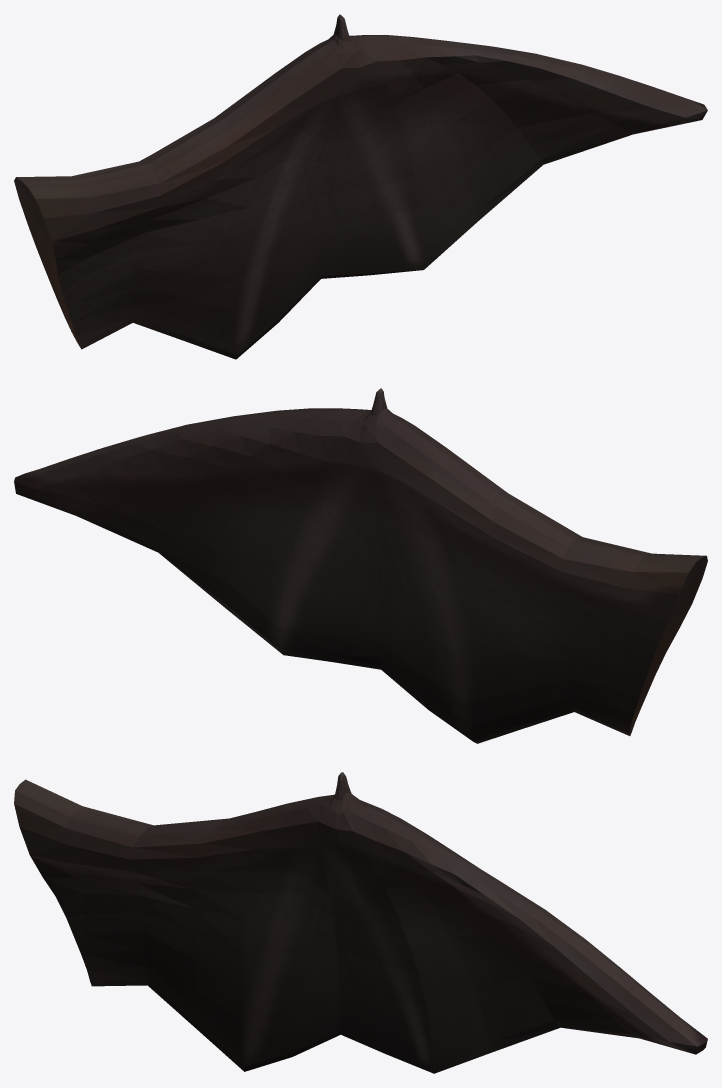
The model's file is SM_FP_Bat_Wing.fbx.
3 renders of one model, top to bottom at view 1: azimuth 30°, elevation 25°; view 2: azimuth 150°, elevation 25°; view 3: azimuth 330°, elevation 25°, orthographic.
Parts seen in each view (by area): view 1: SM_FP_Bat_Wing; view 2: SM_FP_Bat_Wing; view 3: SM_FP_Bat_Wing.
Boxes of the visible parts, x1,y1,x2,y2 form: SM_FP_Bat_Wing: (14, 14, 707, 359); SM_FP_Bat_Wing: (14, 388, 707, 743); SM_FP_Bat_Wing: (14, 772, 707, 1073).
Bounding box in the file's own units: 48.67 × 22.11 × 3.65.
